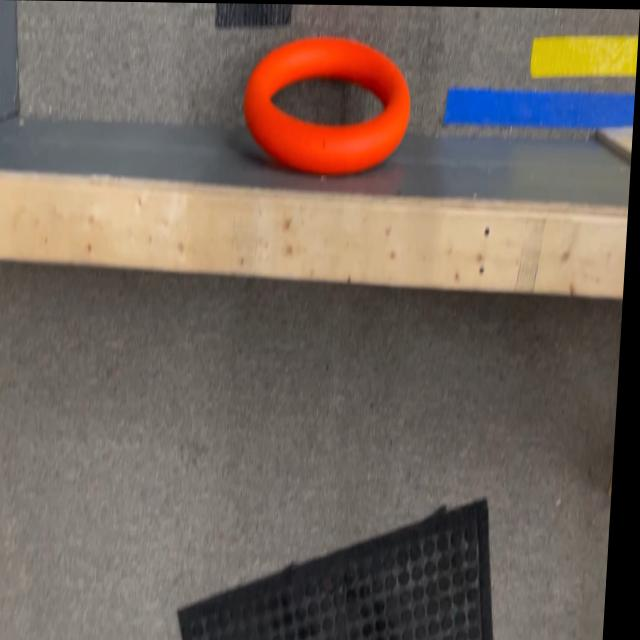note: (240, 35, 414, 172)
